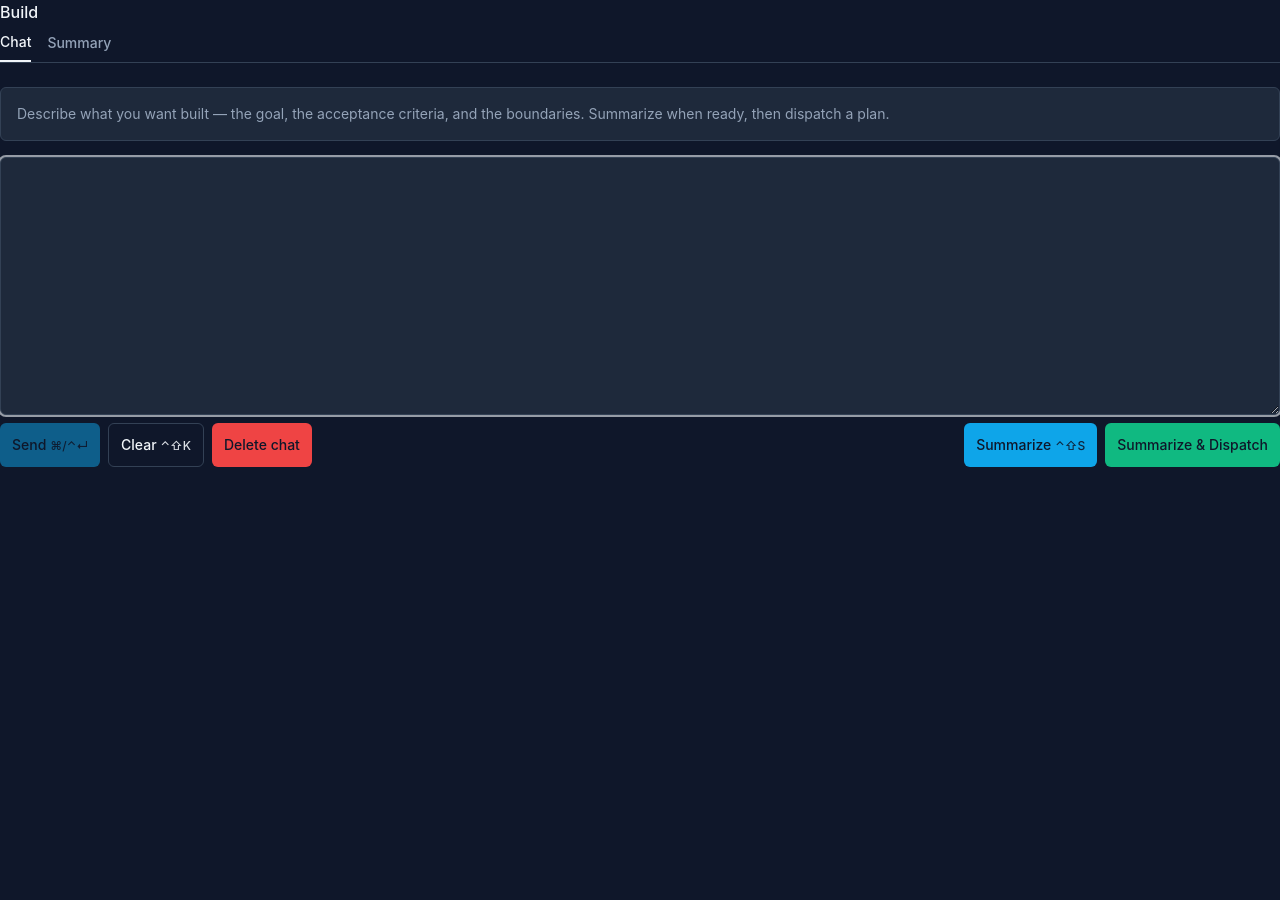
Test: BuildChat › In-chat delete › declining the confirmation leaves the chat exactly as it was
This screenshot has width=1280, height=900.
Expected: the button with test id "delete-chat-button" is enabled, [212,423,312,467]
Step 1. Type "keep me" into the text box named "Message" → (640, 286), box [0,157,1279,415]
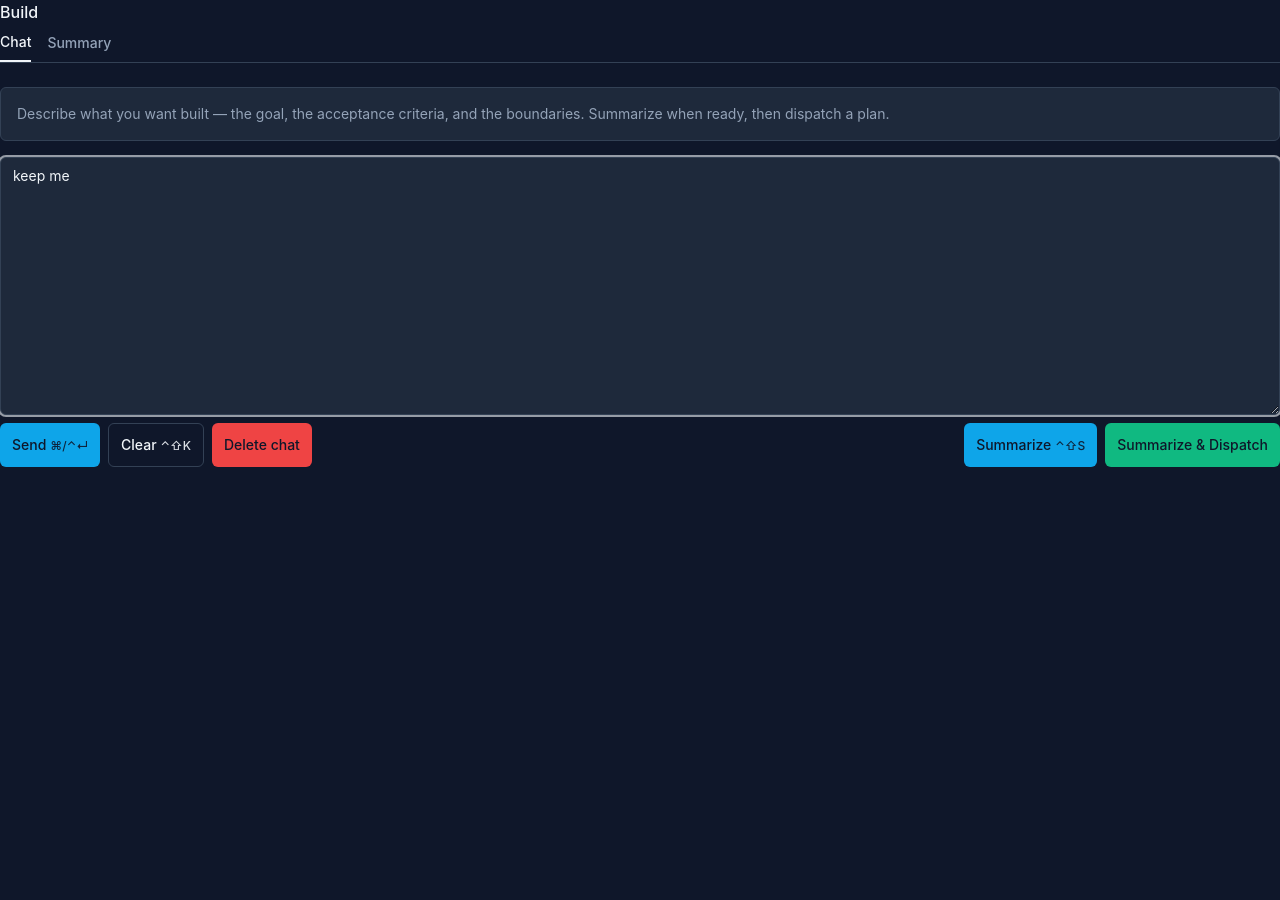
Step 2. Click the button with test id "delete-chat-button" → (262, 445), box [212,423,312,467]
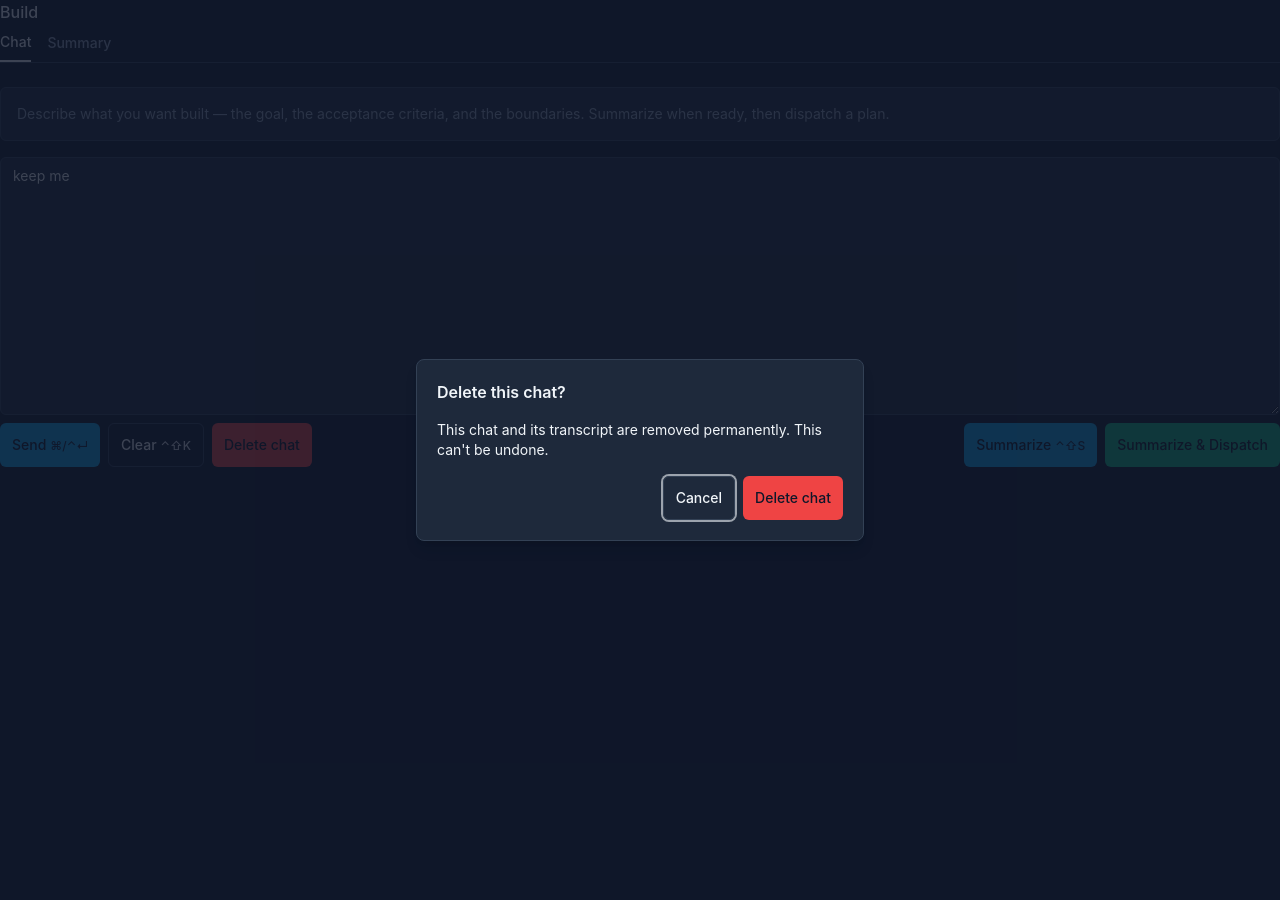
Step 3. Click the button "Cancel" → (699, 498), box [663,476,735,520]
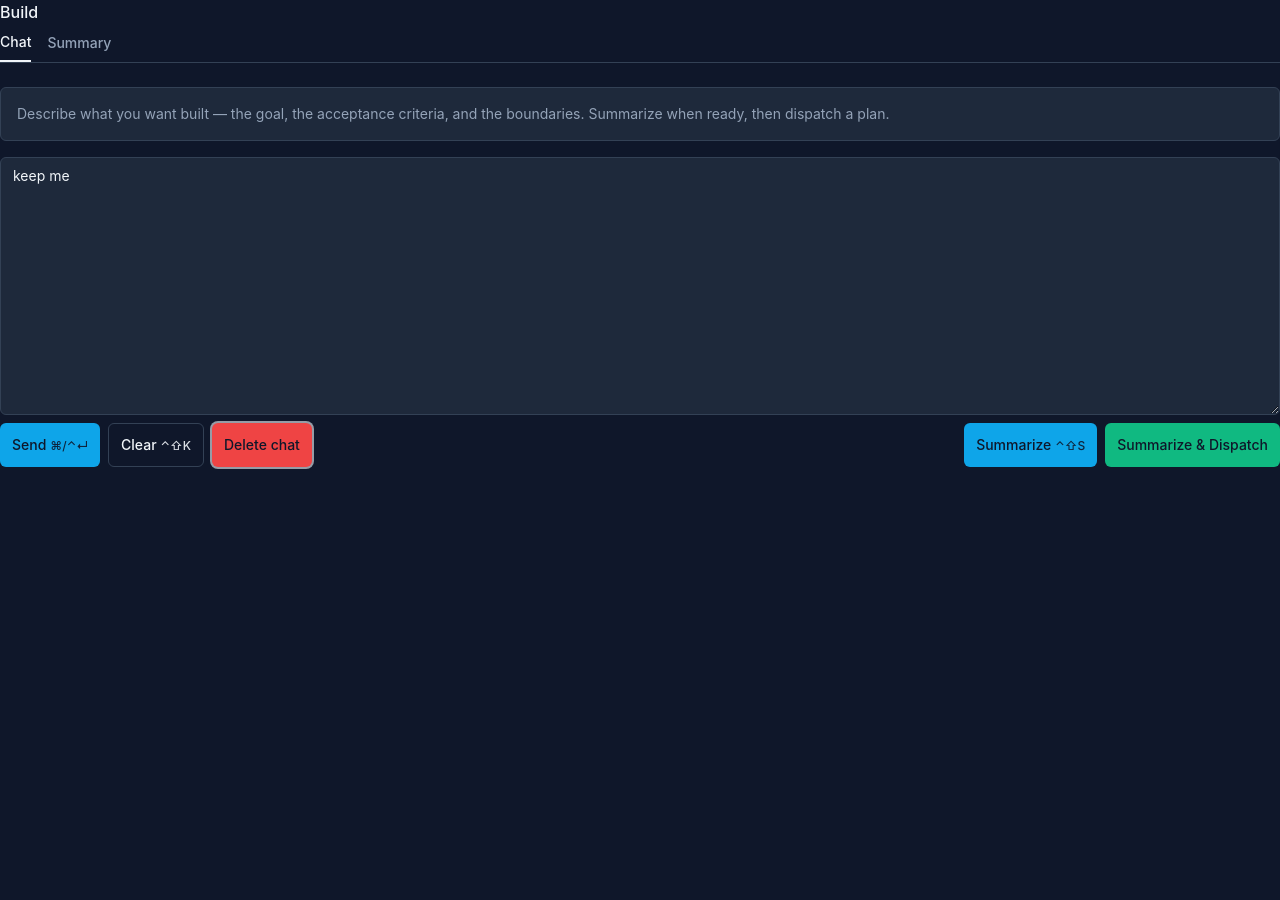
Result: the dialog is gone
